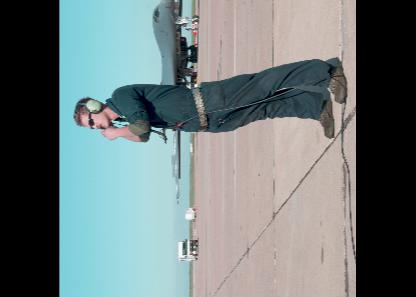AV8B: (150, 0, 199, 204)
